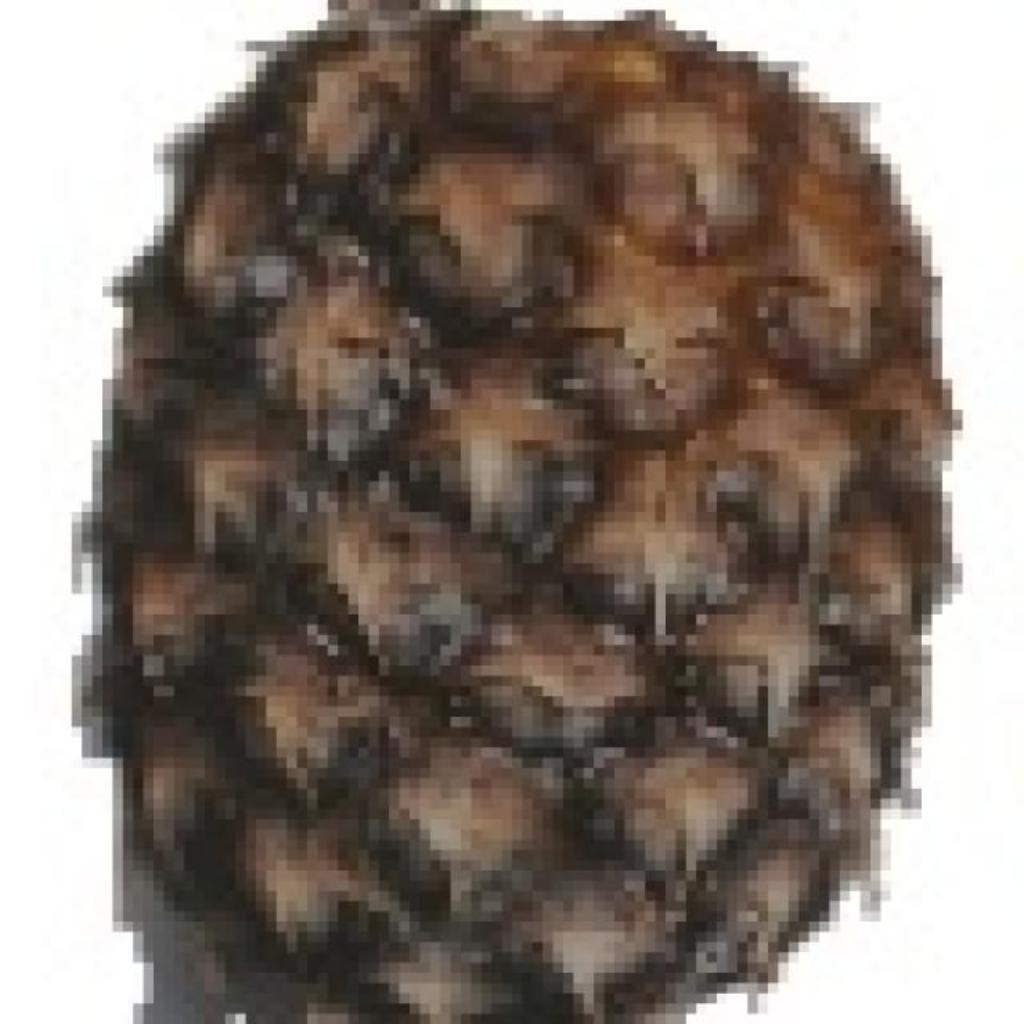pineapple: (80, 0, 954, 1023)
